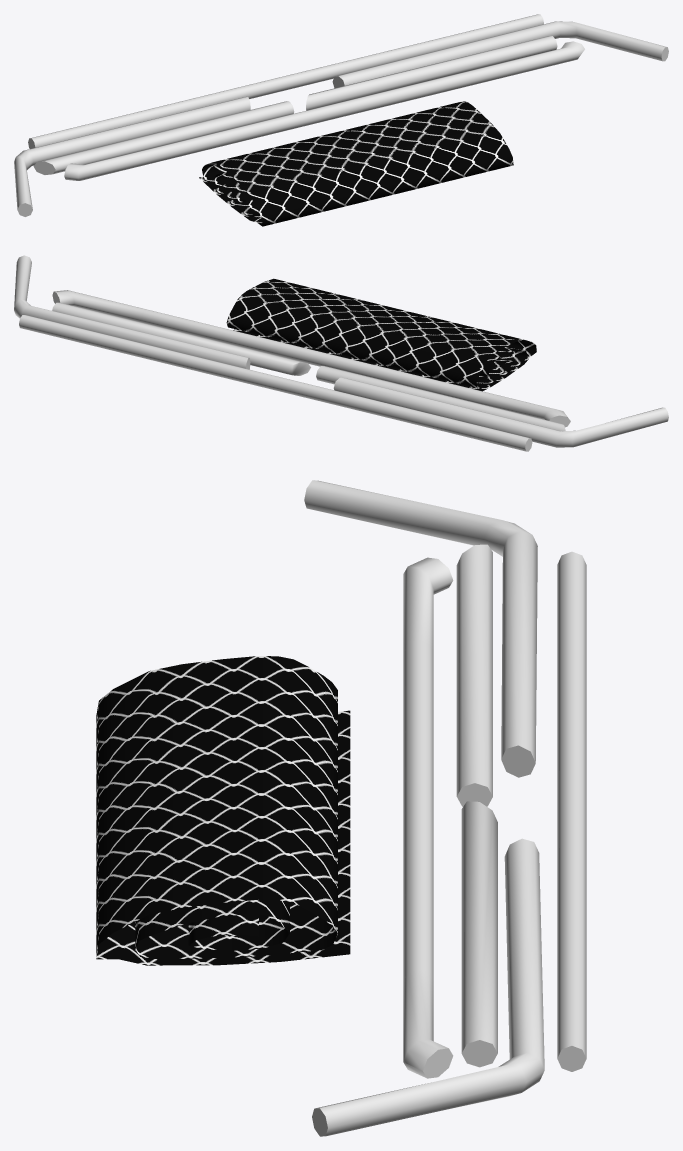
Rendered from gates_disassembled.fbx.
The picture shows the model from 3 angles, top to bottom: view 1: azimuth 30°, elevation 25°; view 2: azimuth 150°, elevation 25°; view 3: azimuth 270°, elevation 25°; orthographic projection. The views are drawn at different scales.
Visible parts, largest first — view 1: Plane.001, Cylinder, Cylinder.002, Cylinder.001, Cylinder.003, Cylinder.004, Cylinder.005; view 2: Plane.001, Cylinder.002, Cylinder, Cylinder.003, Cylinder.001, Cylinder.004, Cylinder.005; view 3: Plane.001, Cylinder, Cylinder.002, Cylinder.003, Cylinder.001, Cylinder.004, Cylinder.005.
Boxes of the visible parts, box(x1,y1,x2,y2) form: Plane.001: box(199, 101, 513, 226); Cylinder: box(64, 41, 584, 180); Cylinder.002: box(28, 14, 543, 148); Cylinder.001: box(332, 21, 668, 88); Cylinder.003: box(14, 96, 250, 216); Cylinder.004: box(306, 36, 557, 110); Cylinder.005: box(33, 101, 294, 174); Plane.001: box(226, 278, 536, 391); Cylinder.002: box(19, 315, 532, 451); Cylinder: box(52, 290, 570, 427); Cylinder.003: box(333, 377, 668, 447); Cylinder.001: box(14, 255, 250, 369); Cylinder.004: box(52, 302, 310, 375); Cylinder.005: box(316, 366, 565, 431); Plane.001: box(96, 656, 350, 965); Cylinder: box(403, 557, 453, 1078); Cylinder.002: box(557, 551, 586, 1071); Cylinder.003: box(304, 480, 537, 777); Cylinder.001: box(312, 838, 544, 1136); Cylinder.004: box(461, 801, 497, 1067); Cylinder.005: box(456, 544, 492, 806).
Size of the model in its own units: 631 by 30.48 by 206.
Materials: 2 (1 with a texture image).
